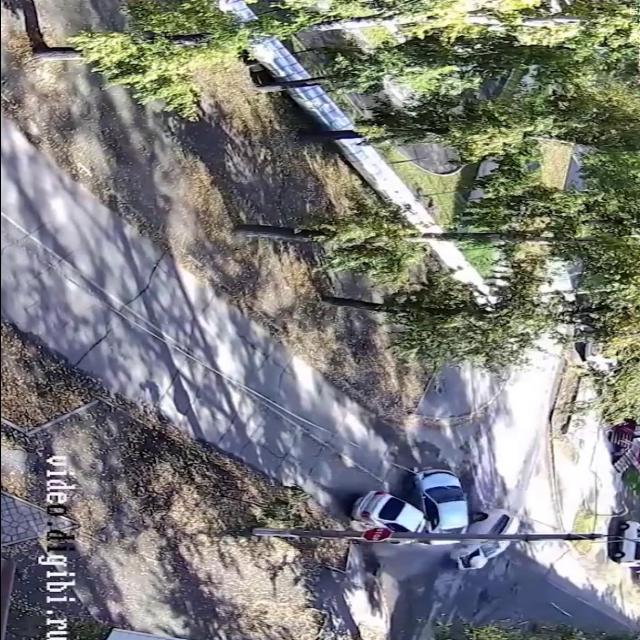accident: (341, 465, 529, 575)
